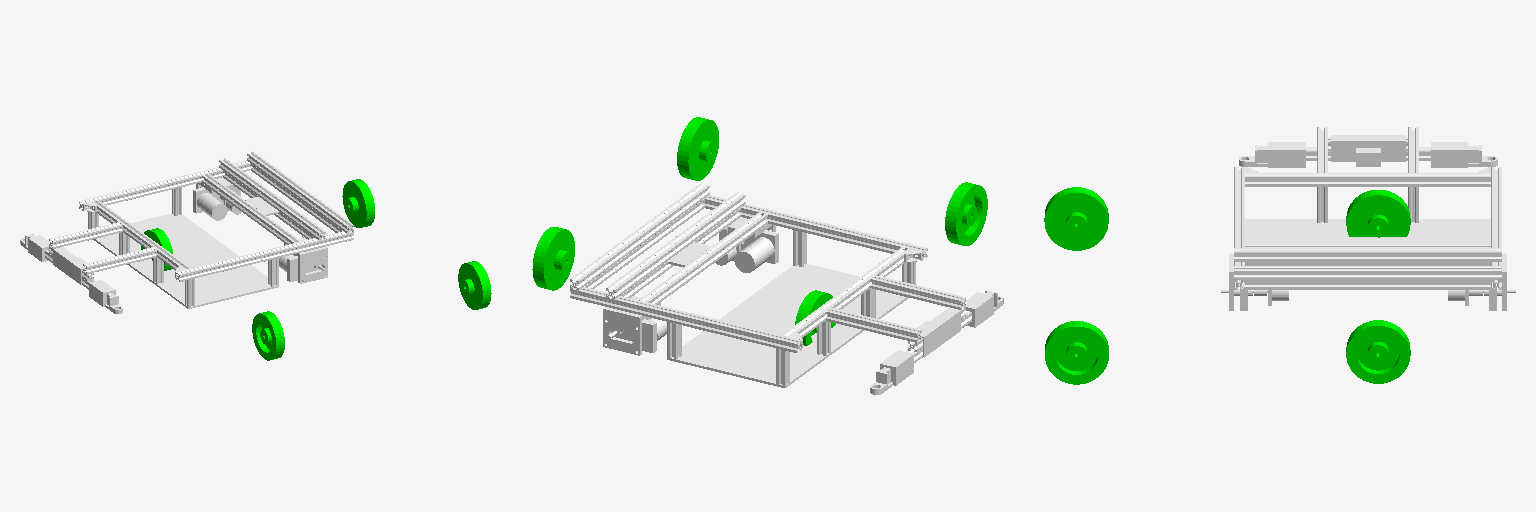
URDF robot description (AAAckermann):
<?xml version="1.0" encoding="utf-8"?>
<!-- This URDF was automatically created by SolidWorks to URDF Exporter! Originally created by [author] ([email redacted]) 
     Commit Version: 1.6.0-4-g7f85cfe  Build Version: 1.6.7995.38578
     For more information, please see http://wiki.ros.org/sw_urdf_exporter -->
<robot
  name="AAAckermann">
  <link
    name="base_link">
    <inertial>
      <origin
        xyz="-4.21303280262464E-07 -0.0595327816236317 -0.0394837308817142"
        rpy="0 0 0" />
      <mass
        value="5.30323718855656" />
      <inertia
        ixx="0.0549209377062058"
        ixy="1.82796488685256E-07"
        ixz="-1.05010041157993E-07"
        iyy="0.031521260751997"
        iyz="3.45960820664162E-07"
        izz="0.085424146932285" />
    </inertial>
    <visual>
      <origin
        xyz="0 0 0"
        rpy="0 0 0" />
      <geometry>
        <mesh
          filename="package://AAAckermann/meshes/base_link.STL" />
      </geometry>
      <material
        name="">
        <color
          rgba="1 1 1 0.4" />
      </material>
    </visual>
    <collision>
      <origin
        xyz="0 0 0"
        rpy="0 0 0" />
      <geometry>
        <mesh
          filename="package://AAAckermann/meshes/base_link.STL" />
      </geometry>
    </collision>
  </link>
  <link
    name="front_left">
    <inertial>
      <origin
        xyz="9.4647E-14 -0.015274 3.8664E-14"
        rpy="0 0 0" />
      <mass
        value="0.24047" />
      <inertia
        ixx="0.00024514"
        ixy="4.8706E-21"
        ixz="-6.7763E-21"
        iyy="0.00045262"
        iyz="6.4598E-20"
        izz="0.00024514" />
    </inertial>
    <visual>
      <origin
        xyz="0 0 0"
        rpy="0 0 0" />
      <geometry>
        <mesh
          filename="package://AAAckermann/meshes/front_left.STL" />
      </geometry>
      <material
        name="">
        <color
          rgba="0 1 0 0.5" />
      </material>
    </visual>
    <collision>
      <origin
        xyz="0 0 0"
        rpy="0 0 0" />
      <geometry>
        <mesh
          filename="package://AAAckermann/meshes/front_left.STL" />
      </geometry>
    </collision>
  </link>
  <joint
    name="front_left_joint"
    type="continuous">
    <origin
      xyz="-0.301000000000045 0.0190000000000679 -0.0695000000000887"
      rpy="3.14159265358979 0.0849179307157281 -1.5707963267949" />
    <parent
      link="base_link" />
    <child
      link="front_left" />
    <axis
      xyz="0 1 0" />
  </joint>
  <link
    name="front_right">
    <inertial>
      <origin
        xyz="-9.9698E-14 0.025726 -2.2427E-14"
        rpy="0 0 0" />
      <mass
        value="0.24047" />
      <inertia
        ixx="0.00024514"
        ixy="4.3755E-21"
        ixz="-2.7105E-20"
        iyy="0.00045262"
        iyz="4.5055E-20"
        izz="0.00024514" />
    </inertial>
    <visual>
      <origin
        xyz="0 0 0"
        rpy="0 0 0" />
      <geometry>
        <mesh
          filename="package://AAAckermann/meshes/front_right.STL" />
      </geometry>
      <material
        name="">
        <color
          rgba="0 1 0 0.5" />
      </material>
    </visual>
    <collision>
      <origin
        xyz="0 0 0"
        rpy="0 0 0" />
      <geometry>
        <mesh
          filename="package://AAAckermann/meshes/front_right.STL" />
      </geometry>
    </collision>
  </link>
  <joint
    name="front_right_joint"
    type="continuous">
    <origin
      xyz="0.259999999999977 0.0190000000000679 -0.0695000000000887"
      rpy="3.14159265358979 -0.692237011731428 1.5707963267949" />
    <parent
      link="base_link" />
    <child
      link="front_right" />
    <axis
      xyz="0 1 0" />
  </joint>
  <link
    name="left_steering">
    <inertial>
      <origin
        xyz="0.013865 -0.0153 -0.021185"
        rpy="0 0 0" />
      <mass
        value="0.04056" />
      <inertia
        ixx="1.4936E-05"
        ixy="-3.298E-06"
        ixz="-7.3015E-06"
        iyy="2.8977E-05"
        iyz="1.3163E-06"
        izz="3.1099E-05" />
    </inertial>
    <visual>
      <origin
        xyz="0 0 0"
        rpy="0 0 0" />
      <geometry>
        <mesh
          filename="package://AAAckermann/meshes/left_steering.STL" />
      </geometry>
      <material
        name="">
        <color
          rgba="0.79216 0.81961 0.93333 1" />
      </material>
    </visual>
    <collision>
      <origin
        xyz="0 0 0"
        rpy="0 0 0" />
      <geometry>
        <mesh
          filename="package://AAAckermann/meshes/left_steering.STL" />
      </geometry>
    </collision>
  </link>
  <joint
    name="left_steering_joint"
    type="continuous">
    <origin
      xyz="-0.229999999999977 -0.544750000000063 -0.0837500000002837"
      rpy="3.14159265358979 0 1.56870378020951" />
    <parent
      link="base_link" />
    <child
      link="left_steering" />
    <axis
      xyz="0 0 1" />
  </joint>
  <link
    name="rear_left">
    <inertial>
      <origin
        xyz="-3.3074E-13 0.025977 4.563E-14"
        rpy="0 0 0" />
      <mass
        value="0.24047" />
      <inertia
        ixx="0.00024514"
        ixy="-2.3357E-20"
        ixz="-9.9262E-24"
        iyy="0.00045262"
        iyz="6.6868E-19"
        izz="0.00024514" />
    </inertial>
    <visual>
      <origin
        xyz="0 0 0"
        rpy="0 0 0" />
      <geometry>
        <mesh
          filename="package://AAAckermann/meshes/rear_left.STL" />
      </geometry>
      <material
        name="">
        <color
          rgba="0 1 0 0.5" />
      </material>
    </visual>
    <collision>
      <origin
        xyz="0 0 0"
        rpy="0 0 0" />
      <geometry>
        <mesh
          filename="package://AAAckermann/meshes/rear_left.STL" />
      </geometry>
    </collision>
  </link>
  <joint
    name="rear_left_joint"
    type="continuous">
    <origin
      xyz="0 -0.0367488381424265 -0.0159999999999999"
      rpy="3.14159265358979 1.57056930363849 0" />
    <parent
      link="left_steering" />
    <child
      link="rear_left" />
    <axis
      xyz="0 1 0" />
  </joint>
  <link
    name="right_steering">
    <inertial>
      <origin
        xyz="-0.0138648135893726 -0.0152975648321685 -0.0211847288398291"
        rpy="0 0 0" />
      <mass
        value="0.0405602056975407" />
      <inertia
        ixx="1.49389201181324E-05"
        ixy="3.30295402364132E-06"
        ixz="7.30156870540009E-06"
        iyy="2.89780784449727E-05"
        iyz="1.3149100127656E-06"
        izz="3.11035126633982E-05" />
    </inertial>
    <visual>
      <origin
        xyz="0 0 0"
        rpy="0 0 0" />
      <geometry>
        <mesh
          filename="package://AAAckermann/meshes/right_steering.STL" />
      </geometry>
      <material
        name="">
        <color
          rgba="0.792156862745098 0.819607843137255 0.933333333333333 1" />
      </material>
    </visual>
    <collision>
      <origin
        xyz="0 0 0"
        rpy="0 0 0" />
      <geometry>
        <mesh
          filename="package://AAAckermann/meshes/right_steering.STL" />
      </geometry>
    </collision>
  </link>
  <joint
    name="right_steering_joint"
    type="continuous">
    <origin
      xyz="0.230000000000023 -0.544750000000063 -0.0837500000002836"
      rpy="3.14159265358979 0 -1.56162994548732" />
    <parent
      link="base_link" />
    <child
      link="right_steering" />
    <axis
      xyz="0 0 1" />
  </joint>
  <link
    name="rear_right">
    <inertial>
      <origin
        xyz="3.3534E-13 0.025722 -9.3148E-14"
        rpy="0 0 0" />
      <mass
        value="0.24047" />
      <inertia
        ixx="0.00024514"
        ixy="-1.5905E-20"
        ixz="1.0588E-21"
        iyy="0.00045262"
        iyz="6.8906E-19"
        izz="0.00024514" />
    </inertial>
    <visual>
      <origin
        xyz="0 0 0"
        rpy="0 0 0" />
      <geometry>
        <mesh
          filename="package://AAAckermann/meshes/rear_right.STL" />
      </geometry>
      <material
        name="">
        <color
          rgba="0 1 0 0.5" />
      </material>
    </visual>
    <collision>
      <origin
        xyz="0 0 0"
        rpy="0 0 0" />
      <geometry>
        <mesh
          filename="package://AAAckermann/meshes/rear_right.STL" />
      </geometry>
    </collision>
  </link>
  <joint
    name="rear_right_joint"
    type="continuous">
    <origin
      xyz="0 -0.0370034448281129 -0.0159999999999995"
      rpy="3.14159265358979 -1.55976234848309 0" />
    <parent
      link="right_steering" />
    <child
      link="rear_right" />
    <axis
      xyz="0 1 0" />
  </joint>
</robot>

--- Render facts (derived) ---
3 views of the same robot in one strip: view 1: azimuth 30°, elevation 25°; view 2: azimuth 150°, elevation 25°; view 3: azimuth 270°, elevation 25° (orthographic).
Robot: AAAckermann — 7 links, 6 joints (6 continuous); root link base_link; default pose: every joint at zero.
Links seen in each view (by area): view 1: base_link, rear_right, rear_left, front_right; view 2: base_link, rear_left, front_right, rear_right, front_left; view 3: base_link, front_right, rear_left, rear_right, front_left.
Link boxes in pixels (box(x1,y1,x2,y2)): base_link: box(20, 151, 353, 313); rear_right: box(458, 261, 491, 309); rear_left: box(252, 311, 284, 360); front_right: box(342, 179, 374, 227); base_link: box(570, 183, 1003, 394); rear_left: box(945, 182, 987, 245); front_right: box(532, 227, 574, 290); rear_right: box(677, 117, 718, 180); front_left: box(795, 290, 835, 345); base_link: box(1221, 127, 1515, 310); front_right: box(1346, 320, 1410, 383); rear_left: box(1044, 187, 1108, 250); rear_right: box(1045, 321, 1108, 384); front_left: box(1346, 190, 1410, 237).
Size in the robot's own frame: 0.8708 by 0.8796 by 0.1495 metres.
5 mesh visuals loaded from 7 distinct referenced files (5 binary STL); not drawn: 2 (reference not matched to a file when rendering).
